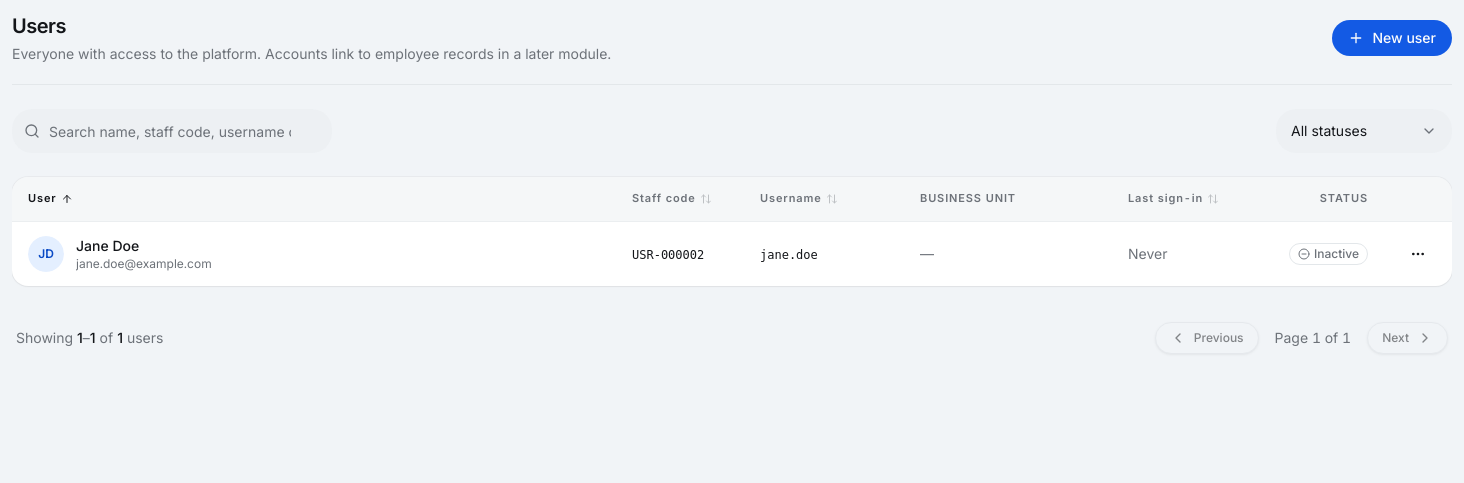
it: UserListPage › offers activate instead of deactivate for an inactive user
Step 1. Click the button named "actions for jane doe" → (1418, 254), box x1=1400 y1=236 x2=1436 y2=272
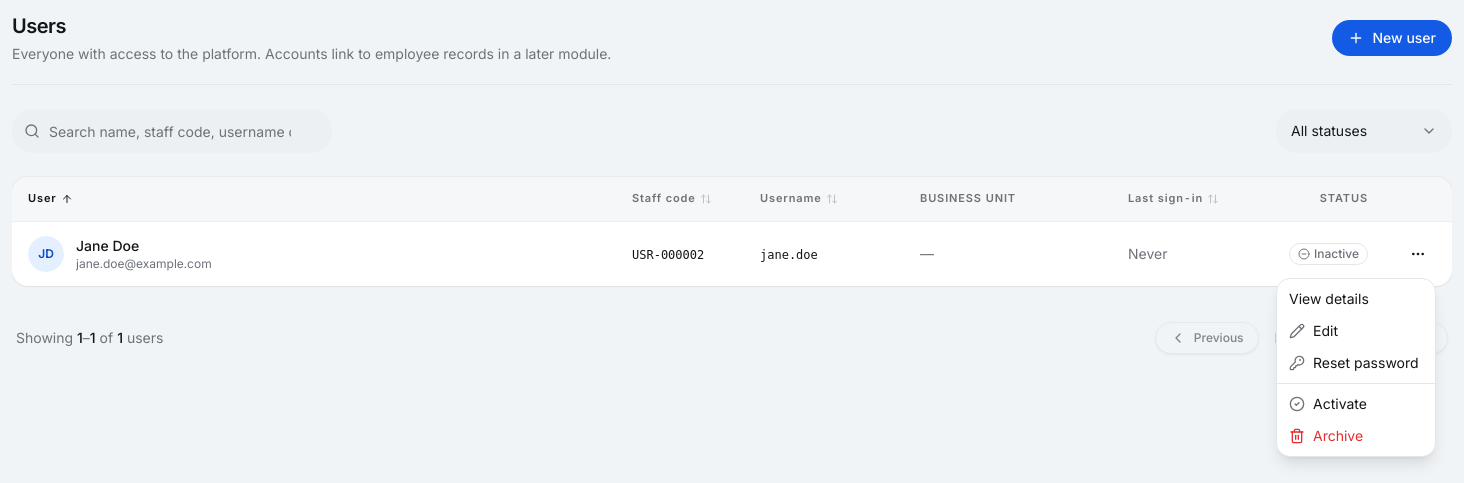
Expected: the menu item "Activate" is shown, x1=1289 y1=395 x2=1367 y2=412
